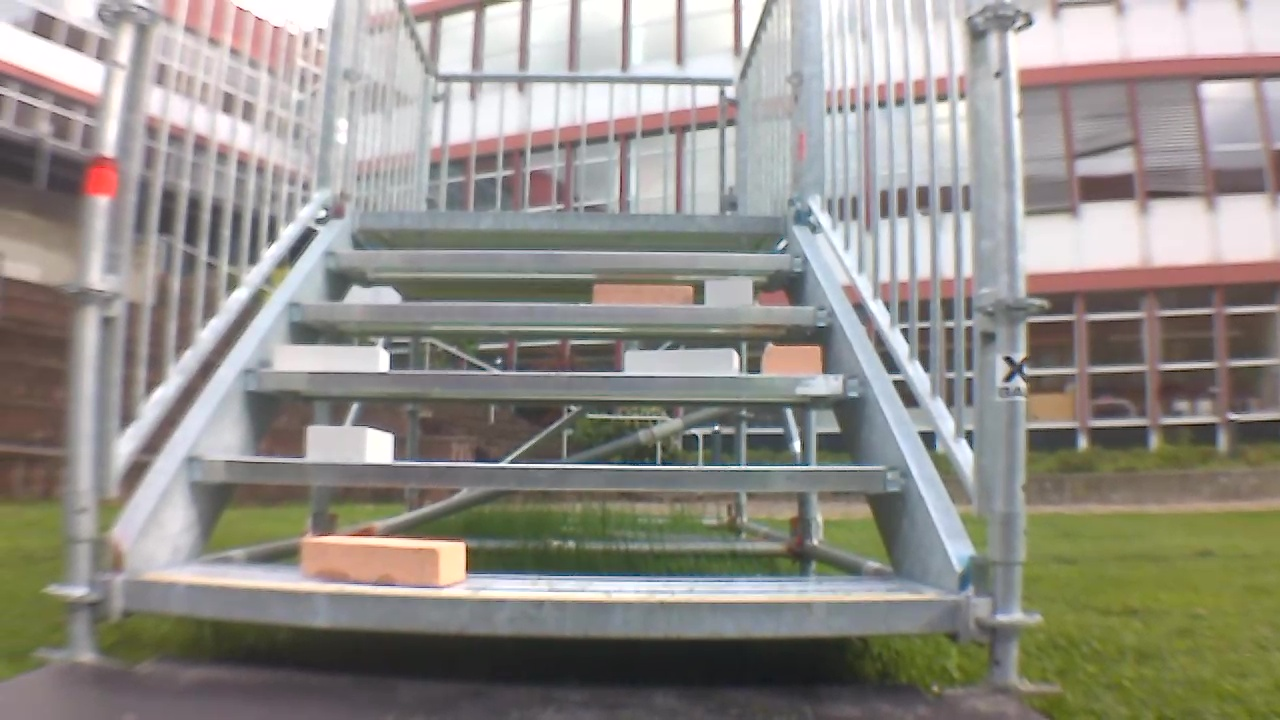brick: (302, 536, 465, 587), (625, 348, 739, 376), (308, 426, 392, 462), (274, 345, 390, 371), (593, 285, 692, 305), (765, 346, 821, 374), (708, 278, 751, 305)
edge: (122, 582, 965, 635), (187, 456, 909, 491), (246, 372, 864, 399), (291, 302, 831, 324), (323, 251, 807, 269), (354, 211, 785, 231)
stairs: (52, 3, 1041, 689)
steps: (115, 203, 972, 648)
